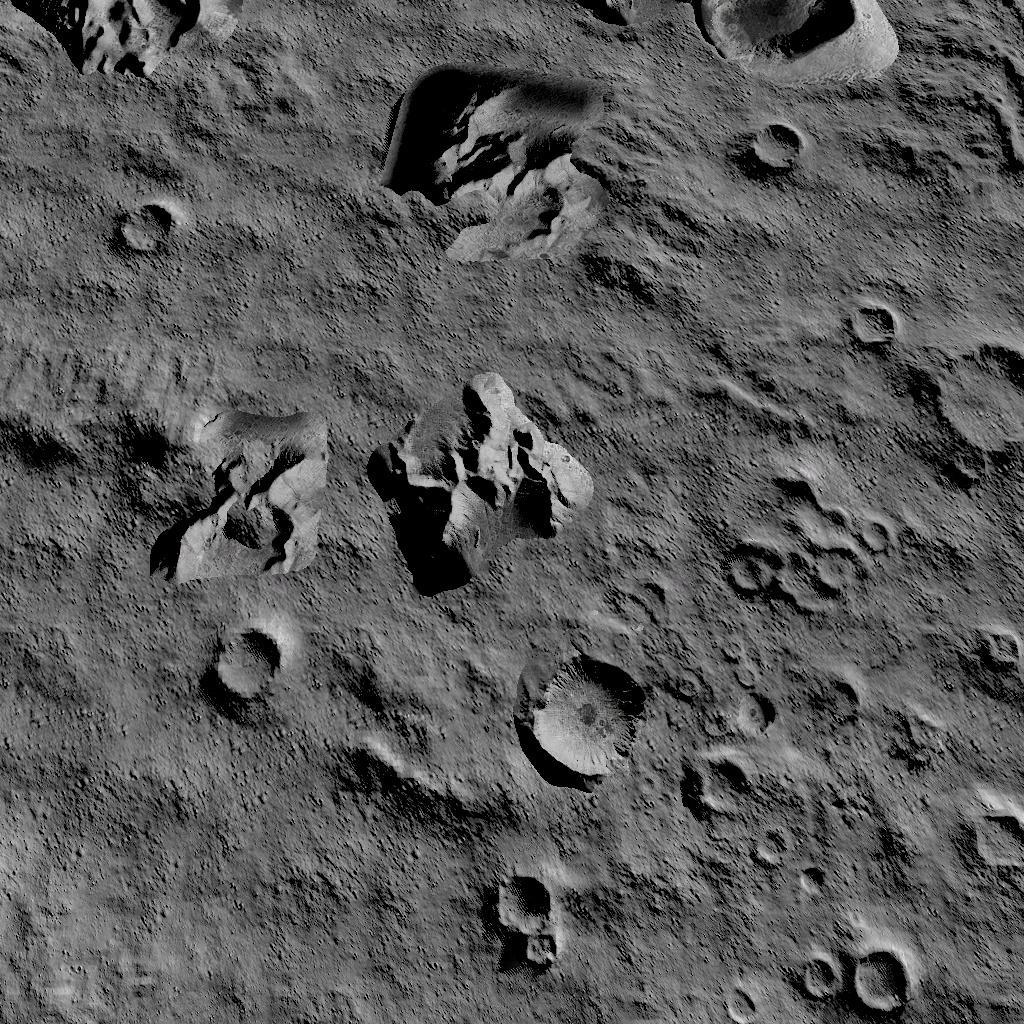Boulders: (0, 345, 333, 580), (384, 65, 706, 295), (376, 372, 593, 592), (0, 0, 248, 90)
Crater: (724, 475, 898, 615), (524, 652, 646, 786), (946, 342, 1024, 488), (786, 940, 910, 1024), (488, 868, 566, 982), (206, 625, 286, 705), (686, 752, 750, 820), (111, 198, 178, 256), (976, 622, 1024, 696), (744, 120, 808, 173), (854, 305, 898, 353)
Plan surface: (0, 595, 193, 1024), (208, 842, 478, 1024), (193, 148, 373, 336), (718, 188, 1024, 292)
